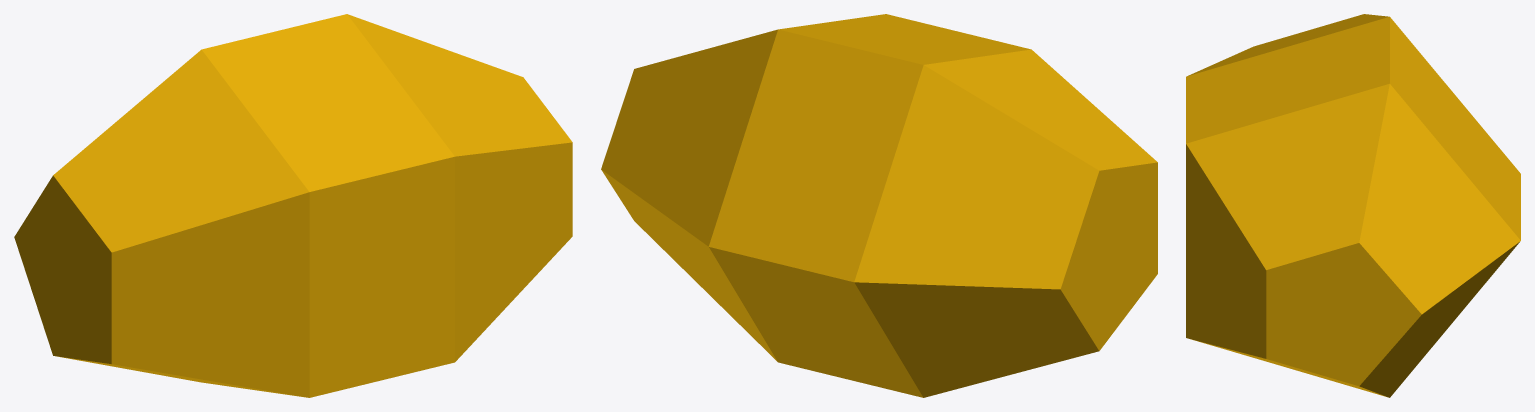
The model's file is limon.fbx.
3 views of the same model, side by side, from view 1: azimuth 30°, elevation 25°; view 2: azimuth 150°, elevation 25°; view 3: azimuth 270°, elevation 25° (orthographic). The views are drawn at different scales.
Parts seen in each view (by area): view 1: Limón; view 2: Limón; view 3: Limón.
Part boxes in pixels (<box>): Limón: <box>14,14,572,397</box>; Limón: <box>601,14,1157,397</box>; Limón: <box>1186,14,1520,397</box>.
Bounding box in the file's own units: 5.48 × 3.73 × 3.6.
